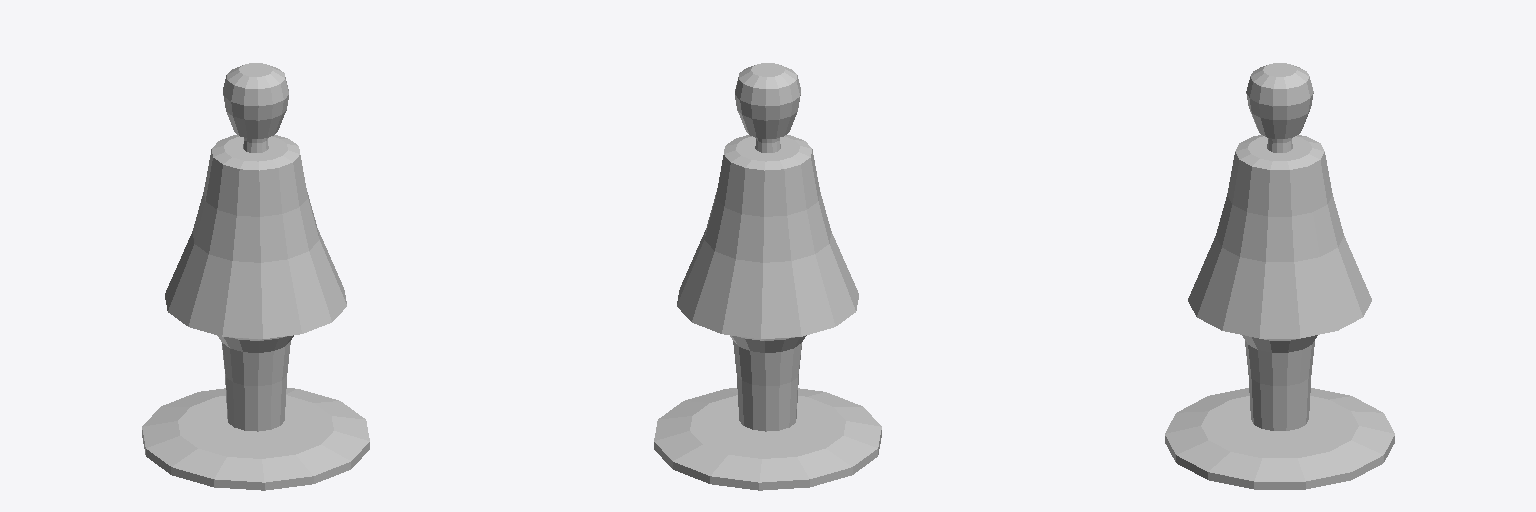
File: human-short_003.obj
The picture shows the model from 3 angles: view 1: azimuth 30°, elevation 25°; view 2: azimuth 150°, elevation 25°; view 3: azimuth 270°, elevation 25°; orthographic projection.
Parts seen in each view (by area): view 1: human-short.003; view 2: human-short.003; view 3: human-short.003.
Boxes of the visible parts, x1,y1,x2,y2 form: human-short.003: [142, 63, 369, 490]; human-short.003: [654, 63, 881, 490]; human-short.003: [1165, 63, 1394, 489].
Bounding box in the file's own units: 0.85 × 1.55 × 0.8719.